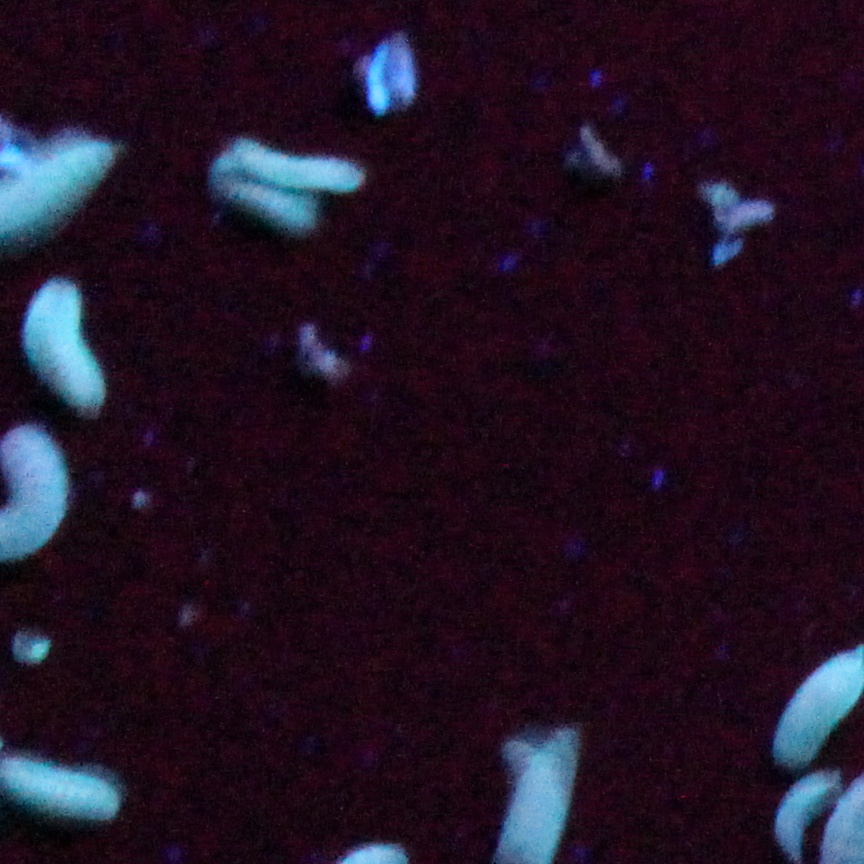larve: (770, 644, 864, 767), (25, 282, 106, 405), (2, 751, 120, 819), (210, 167, 314, 228), (233, 140, 364, 188)
